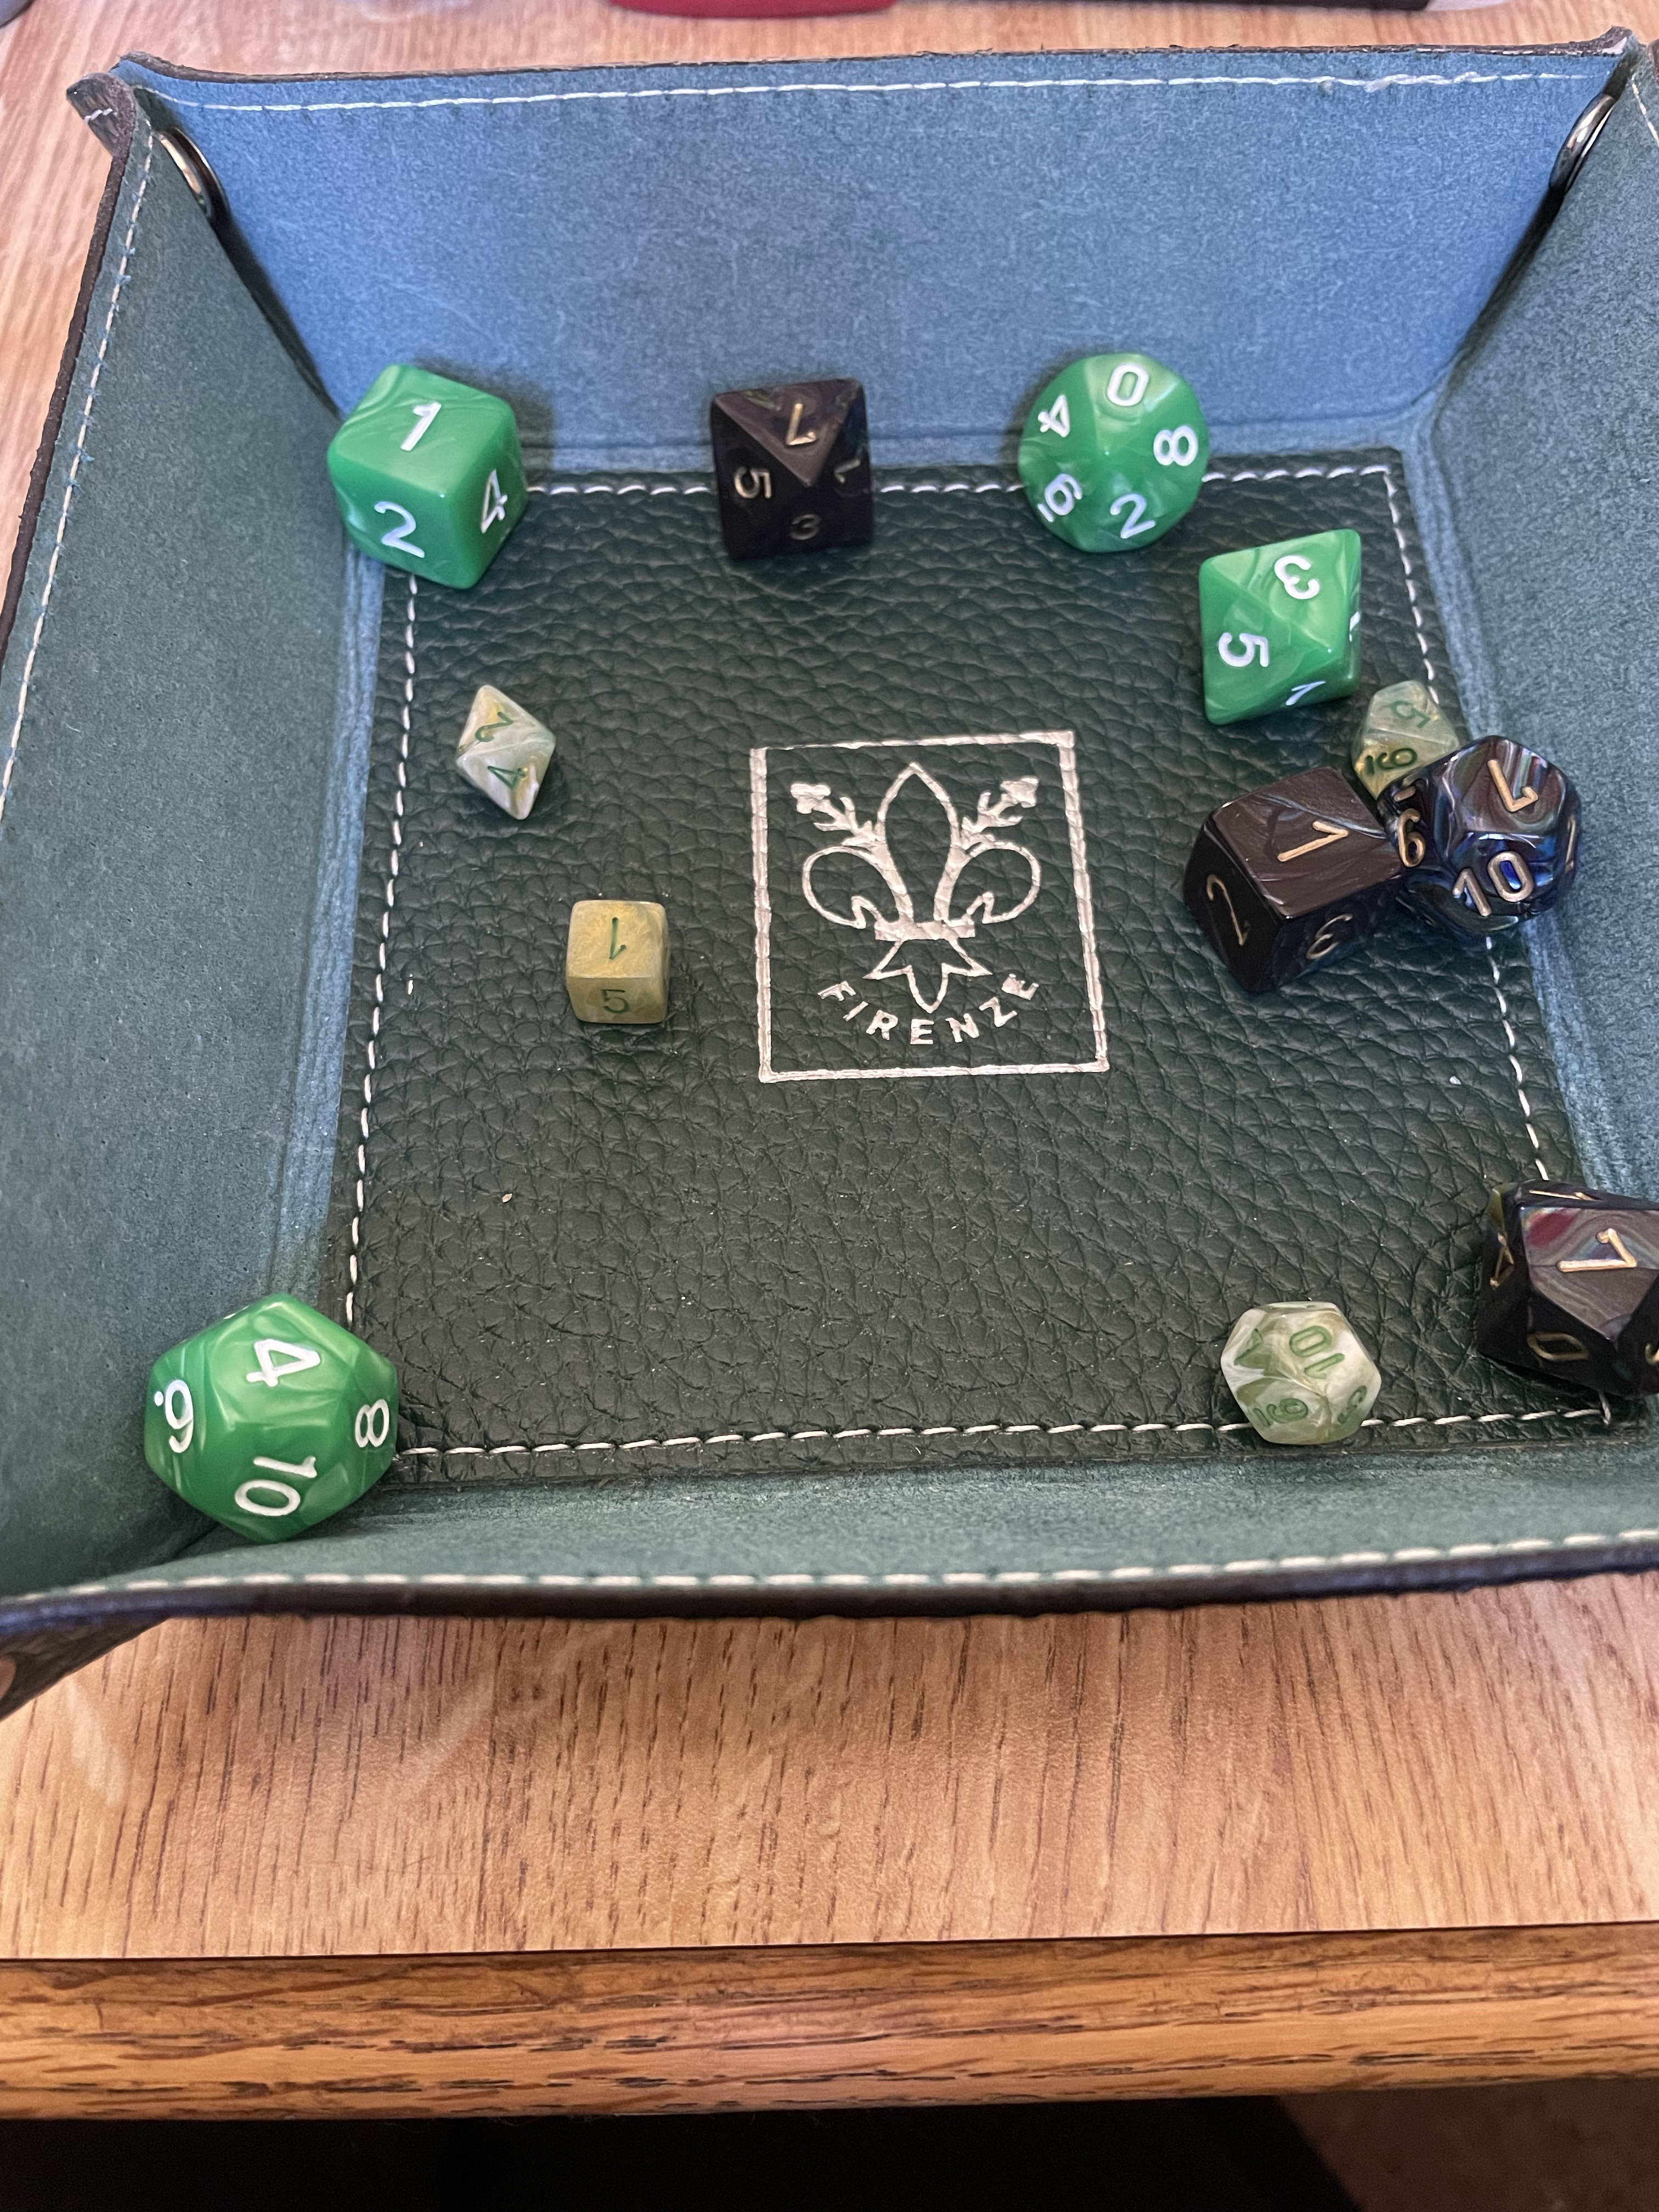five: (1344, 667, 1492, 824)
four: (91, 1270, 484, 1550)
one: (1143, 745, 1436, 981), (310, 343, 580, 596), (535, 864, 680, 1038)
seven: (652, 343, 913, 596), (1441, 1153, 1654, 1432), (1391, 716, 1610, 941)
ten: (1178, 1251, 1415, 1496)
three: (1161, 503, 1403, 740)
two: (403, 650, 594, 838)
zero: (995, 331, 1230, 589)
